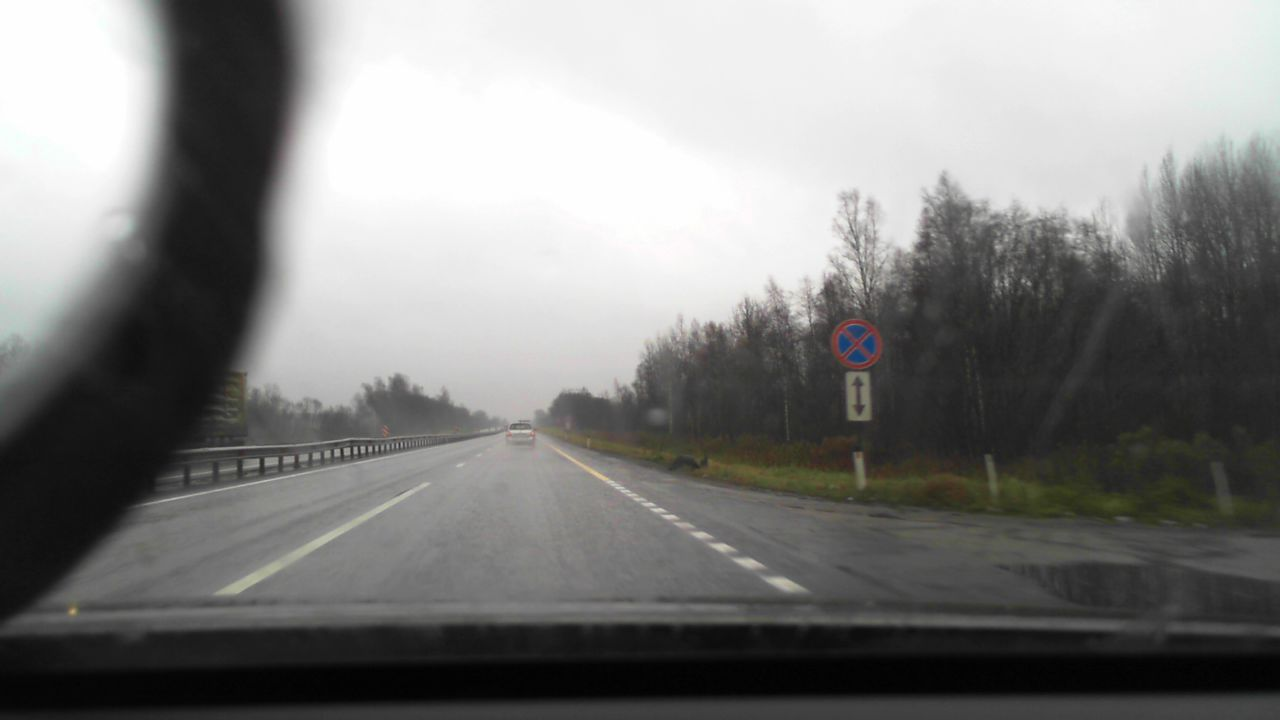No Parking: (830, 319, 882, 369)
